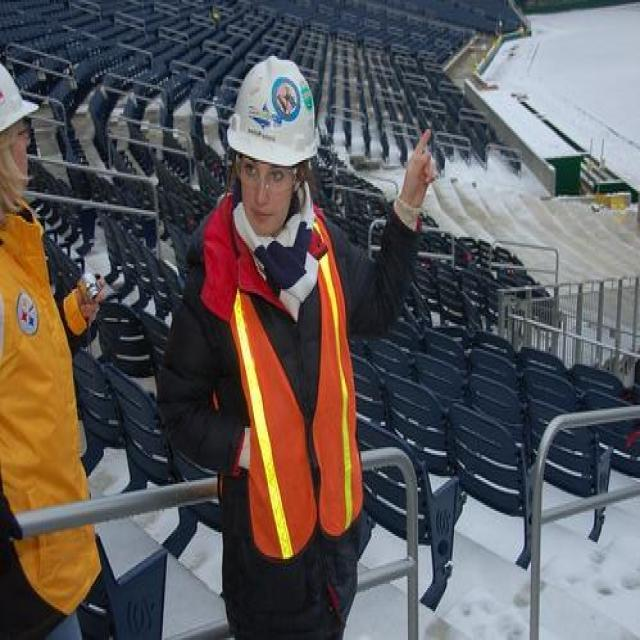reflective_jacket: (178, 202, 366, 566)
safety_helmet: (223, 52, 323, 174), (0, 53, 39, 150)
